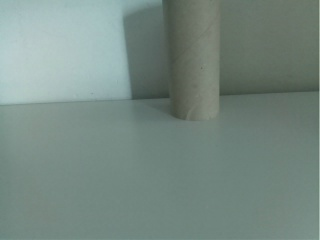rollo papel: (166, 1, 222, 118)
